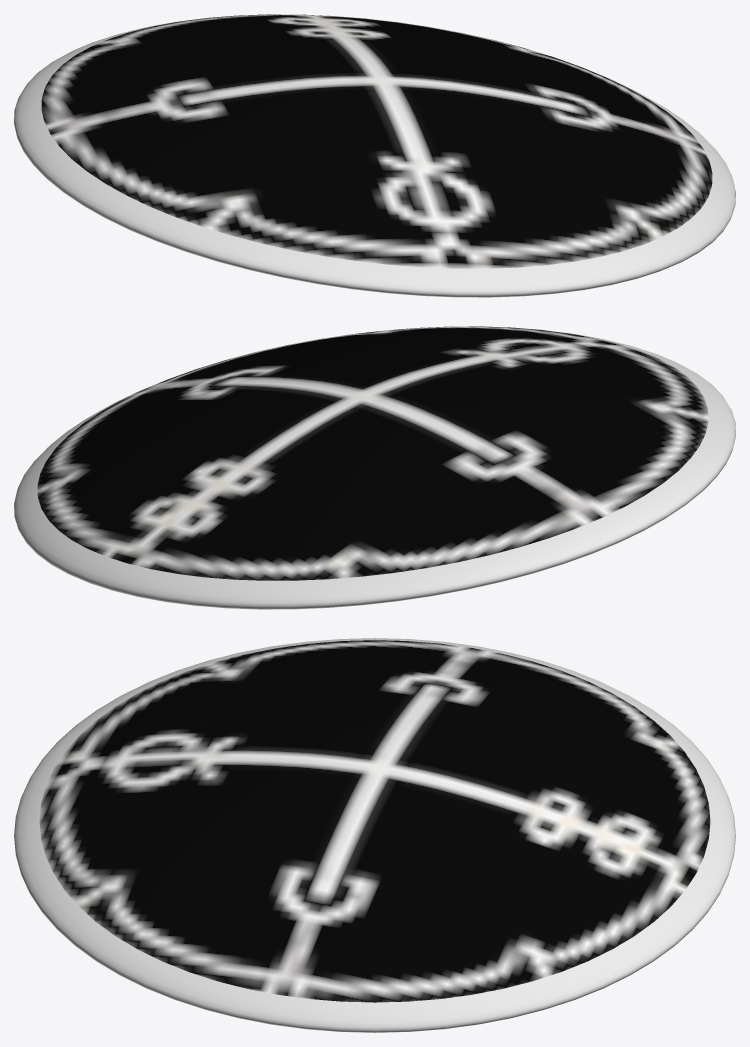
File: Shield2.glb
The picture shows the model from 3 angles, top to bottom: view 1: azimuth 30°, elevation 25°; view 2: azimuth 150°, elevation 25°; view 3: azimuth 270°, elevation 25°; orthographic projection.
Parts seen in each view (by area): view 1: Torus; view 2: Torus; view 3: Torus.
Boxes of the visible parts, box(x1,y1,x2,y2) form: Torus: box(14, 14, 735, 297); Torus: box(14, 326, 735, 609); Torus: box(14, 638, 735, 1032).
Size of the model in its own units: 0.7779 by 0.1855 by 0.785.
3 materials, 1 textured.
